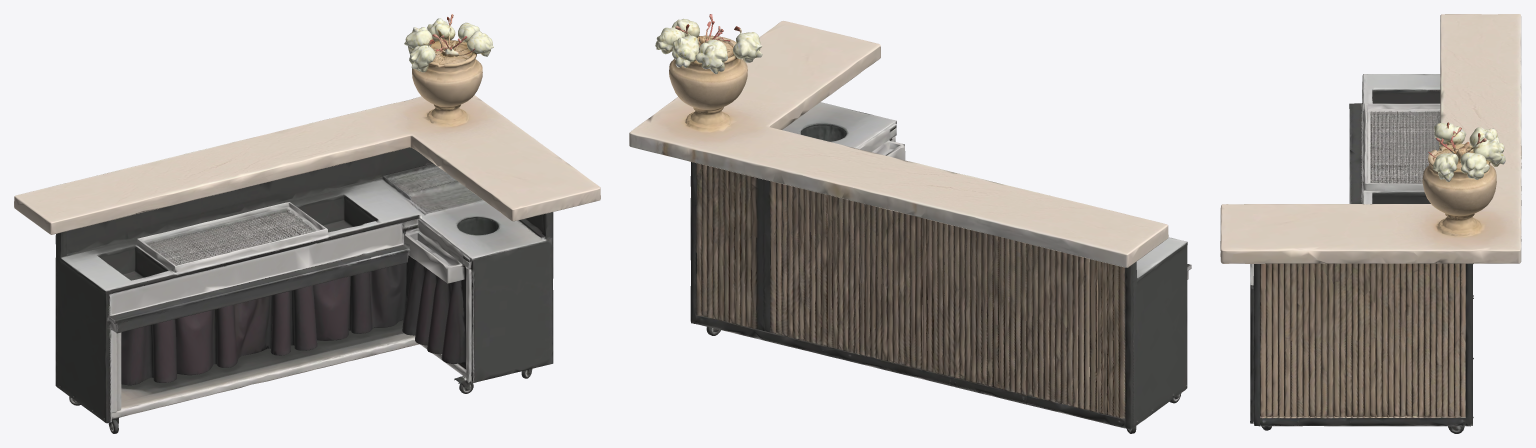
File: bar-resort-left.glb
3 renders of one model, left to right at view 1: azimuth 30°, elevation 25°; view 2: azimuth 150°, elevation 25°; view 3: azimuth 270°, elevation 25°, orthographic. The views are drawn at different scales.
Visible parts, largest first — view 1: tripo_node_c88daa3c-88a2-4e61-b4ae-a3b2db3409f4; view 2: tripo_node_c88daa3c-88a2-4e61-b4ae-a3b2db3409f4; view 3: tripo_node_c88daa3c-88a2-4e61-b4ae-a3b2db3409f4.
Part boxes in pixels (bbox=[...]): tripo_node_c88daa3c-88a2-4e61-b4ae-a3b2db3409f4: bbox=[14, 14, 600, 433]; tripo_node_c88daa3c-88a2-4e61-b4ae-a3b2db3409f4: bbox=[629, 14, 1191, 433]; tripo_node_c88daa3c-88a2-4e61-b4ae-a3b2db3409f4: bbox=[1220, 14, 1521, 433].
Bounding box in the file's own units: 2.6 × 1.57 × 1.39.
1 material, 1 textured.
